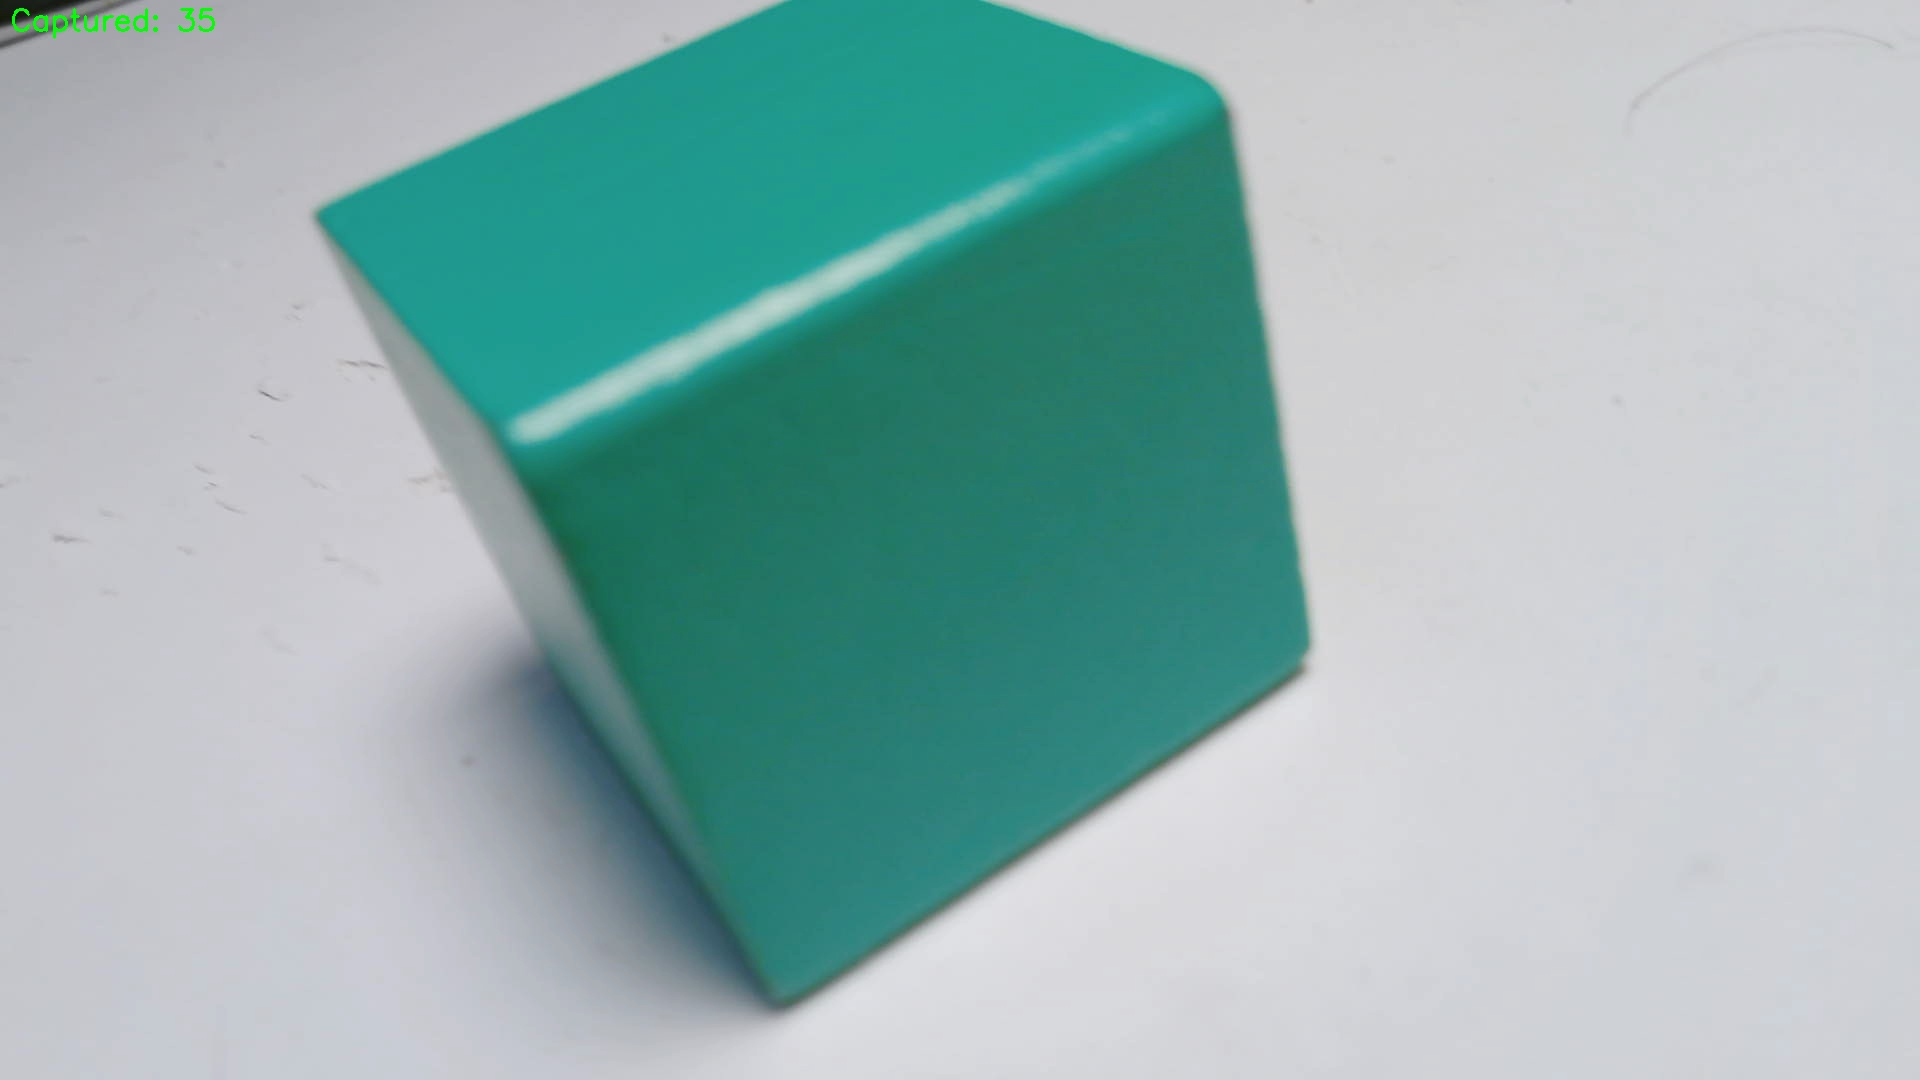green: (313, 3, 1319, 1007)
